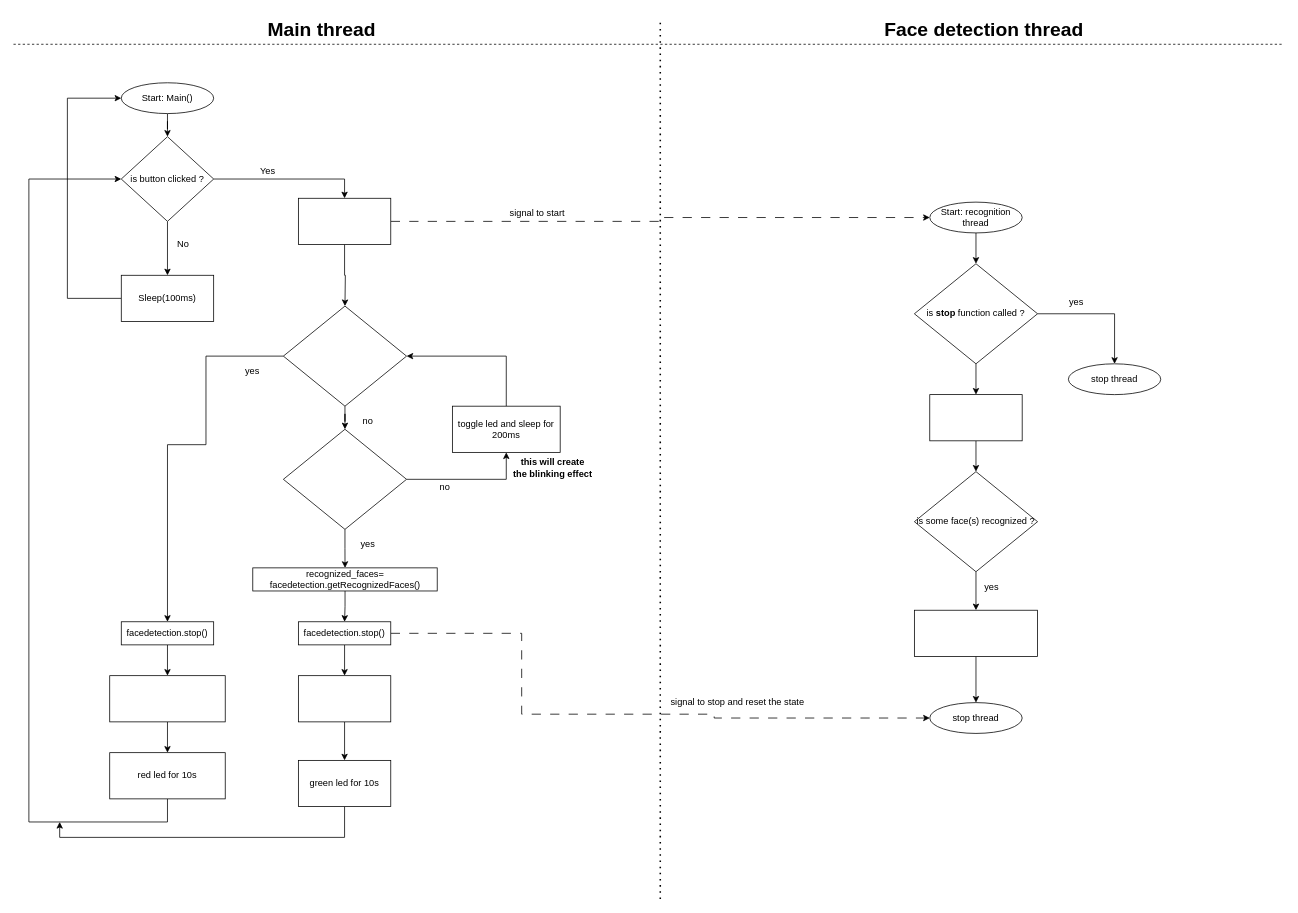
The diagram is 1298 pixels wide and 913 high, and some of its shapes have lost their labels. The shapes that lost their labels are listed below. From the top down, each one's centre as x and y in pixels, then its label:
point (344, 221): facedetection.start()
point (345, 355): Timeout=10s ?
point (975, 417): run face recognition on 1 frame
point (345, 479): facedetection .isFacesRecognized() ?
point (976, 632): faces_recognized = true faces_names = [...]
point (167, 698): publish "unrecognized person is requesting access" + time stamp
point (344, 698): Publish: name(s) of recognized faces + time stamp
